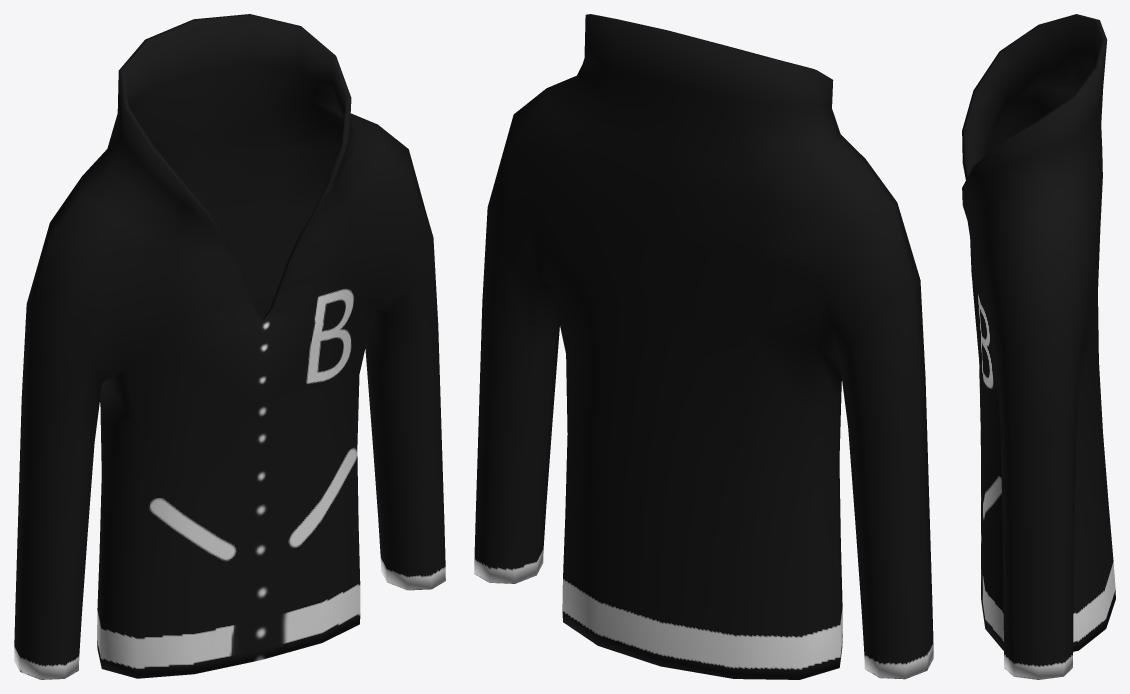
The model's file is Jaqueta.fbx.
3 views of the same model, side by side, from view 1: azimuth 30°, elevation 25°; view 2: azimuth 150°, elevation 25°; view 3: azimuth 270°, elevation 25° (orthographic). The views are drawn at different scales.
Parts seen in each view (by area): view 1: Jaqueta; view 2: Jaqueta; view 3: Jaqueta.
Part boxes in pixels (x1,y1,x2,y2): Jaqueta: (14, 14, 445, 679); Jaqueta: (474, 14, 933, 679); Jaqueta: (962, 14, 1115, 679).
Size of the model in its own units: 374 by 505 by 126.
